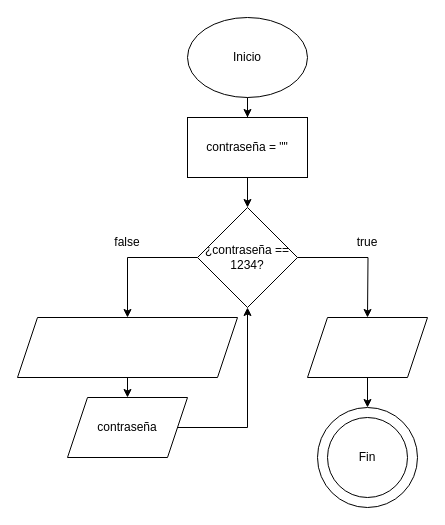
Image size: 445x525. Some labels were removed from this diagram. The centre of each missing label's shape, as x and y in pixels:
"Bienvenido": pixel 367 347
"Escribe la contraseña correcta": pixel 127 347
